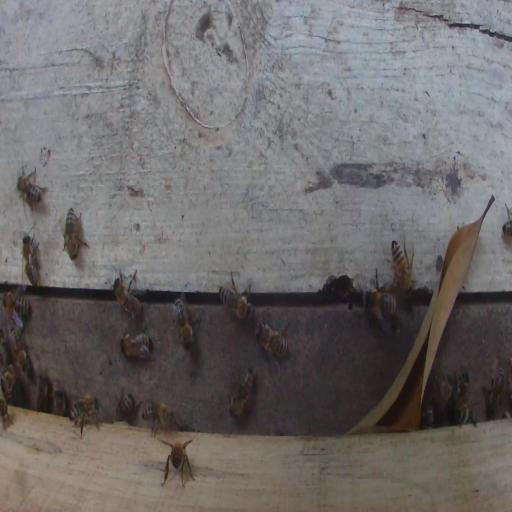nonpollenbee: (364, 274, 399, 337), (219, 271, 255, 322), (161, 436, 195, 489), (228, 365, 258, 419), (112, 268, 143, 320), (173, 292, 200, 351), (254, 320, 289, 365), (68, 393, 100, 439), (391, 238, 414, 300), (141, 400, 176, 438), (17, 165, 47, 209), (484, 370, 507, 416), (120, 331, 153, 360), (22, 231, 39, 287), (2, 290, 31, 322), (10, 335, 32, 376), (64, 205, 78, 260), (115, 389, 136, 421), (454, 402, 477, 427), (1, 365, 19, 396), (439, 372, 454, 409), (37, 373, 49, 413), (455, 370, 469, 404), (1, 395, 13, 429), (502, 202, 512, 241), (420, 402, 434, 427), (54, 389, 66, 416)
